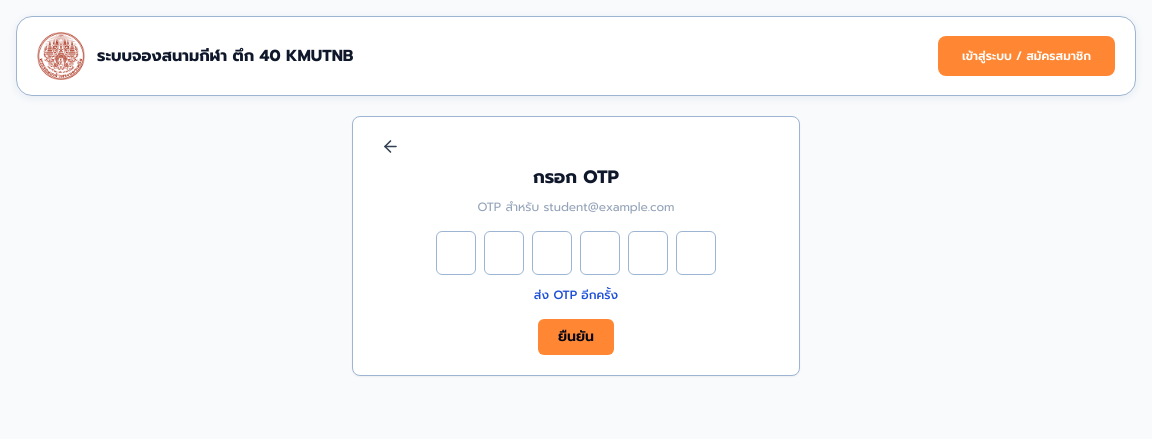
Test: resends an OTP and clears the previously entered digits
Type "1" into the field named "OTP หลักที่ 1" at (456, 253), box top-left (436, 231), bottom-right (476, 275)
Type "2" into the field named "OTP หลักที่ 2" at (504, 253), box top-left (484, 231), bottom-right (524, 275)
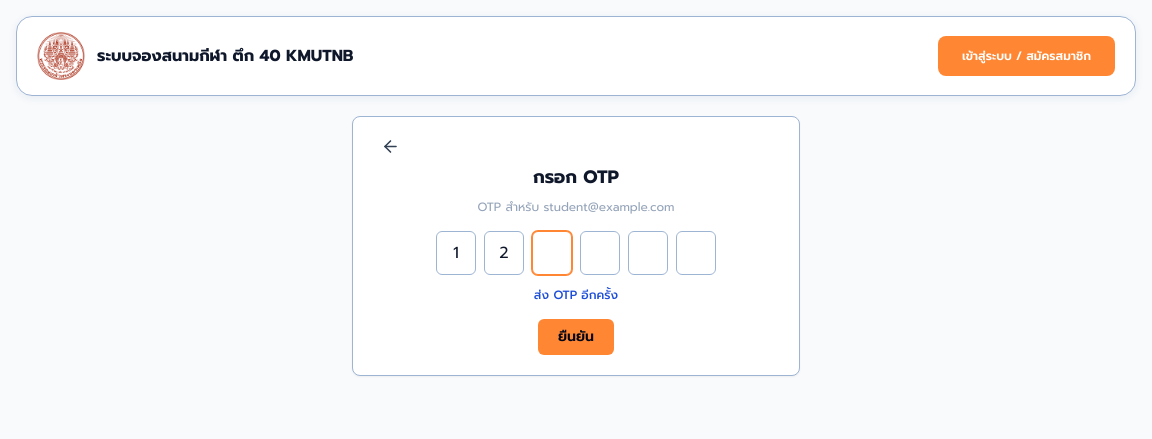
Type "3" into the field named "OTP หลักที่ 3" at (552, 253), box top-left (532, 231), bottom-right (572, 275)
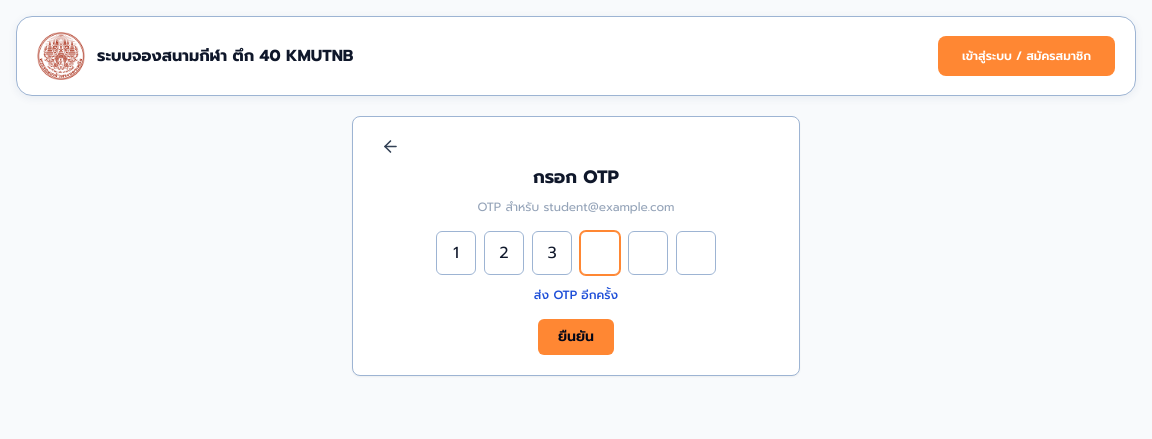
Type "4" into the field named "OTP หลักที่ 4" at (600, 253), box top-left (580, 231), bottom-right (620, 275)
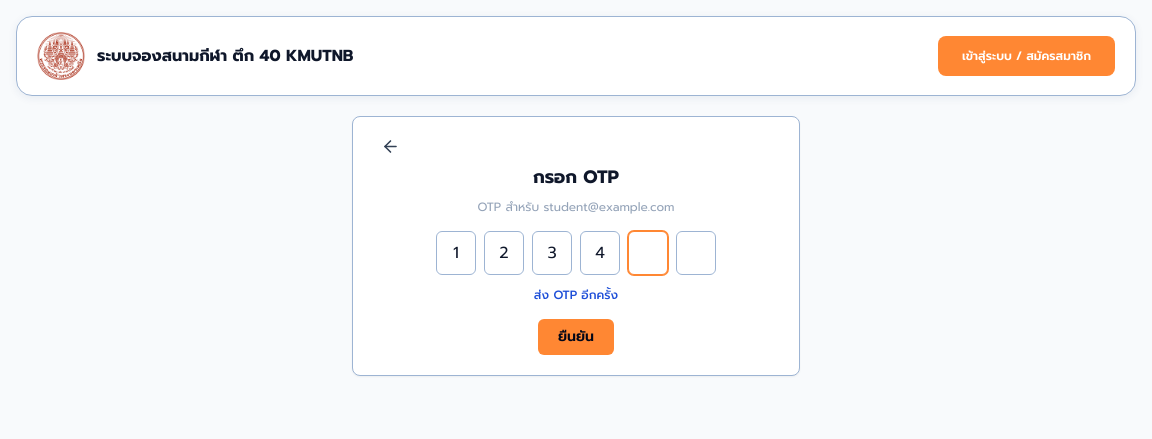
Type "5" into the field named "OTP หลักที่ 5" at (648, 253), box top-left (628, 231), bottom-right (668, 275)
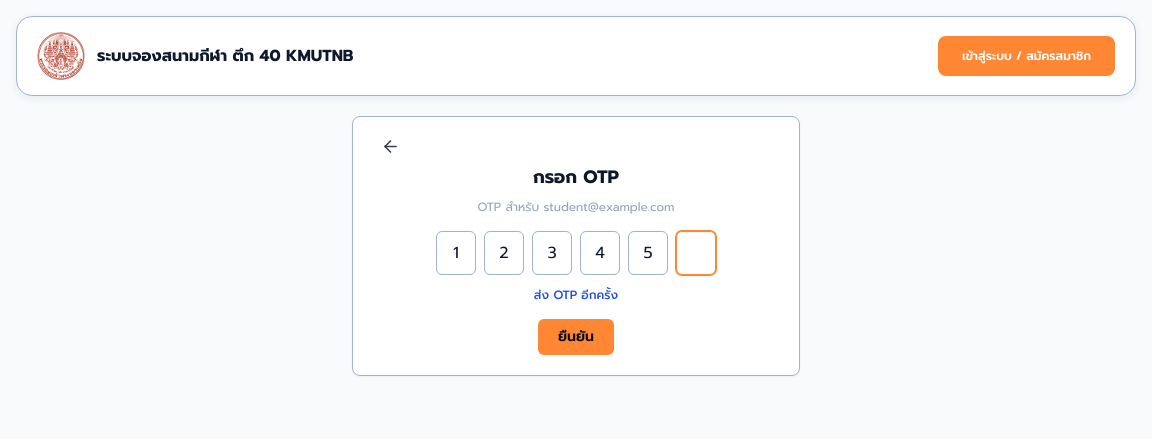
Type "6" into the field named "OTP หลักที่ 6" at (696, 253), box top-left (676, 231), bottom-right (716, 275)
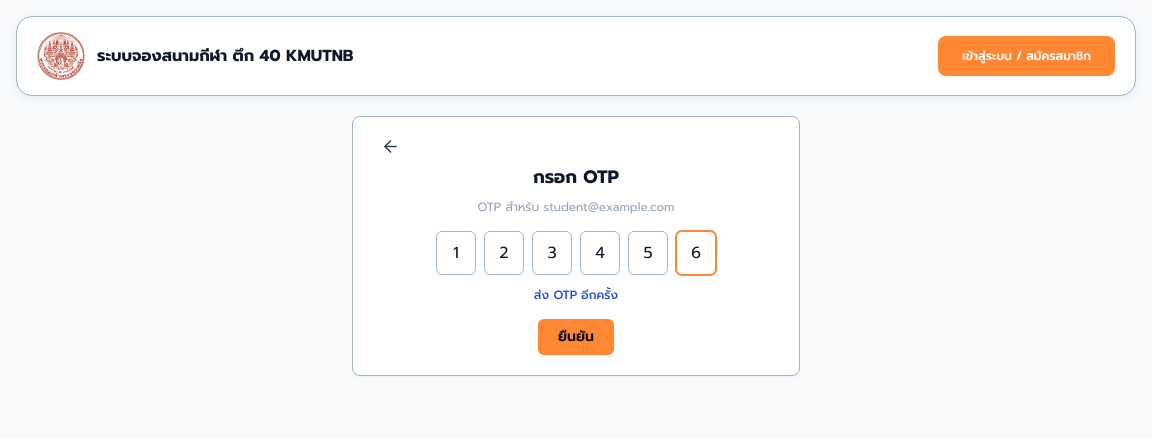
Click the button "ส่ง OTP อีกครั้ง" at (576, 295), box top-left (534, 287), bottom-right (618, 303)
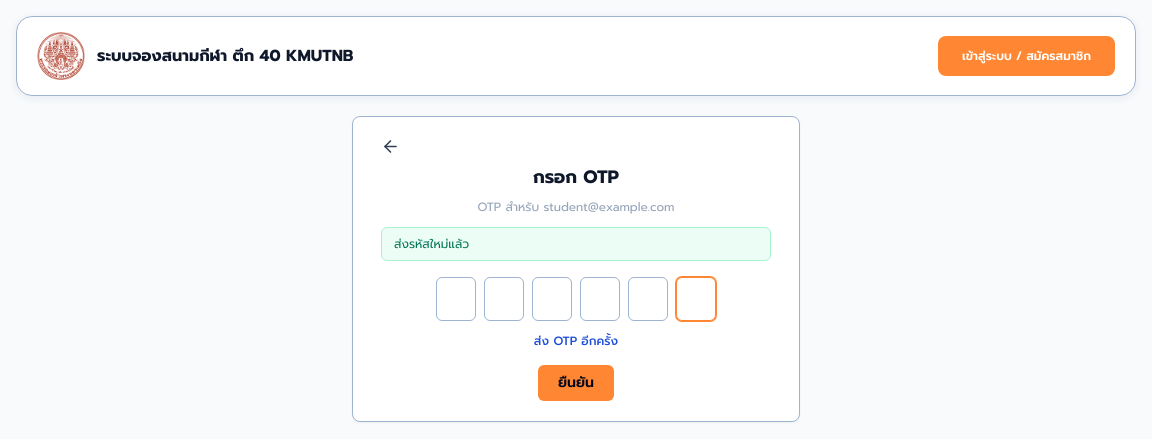
Expected: the field named "OTP หลักที่ 1" is empty, top-left (436, 277), bottom-right (476, 321)
Expected: the message reads "ส่งรหัสใหม่แล้ว", top-left (394, 235), bottom-right (469, 253)
